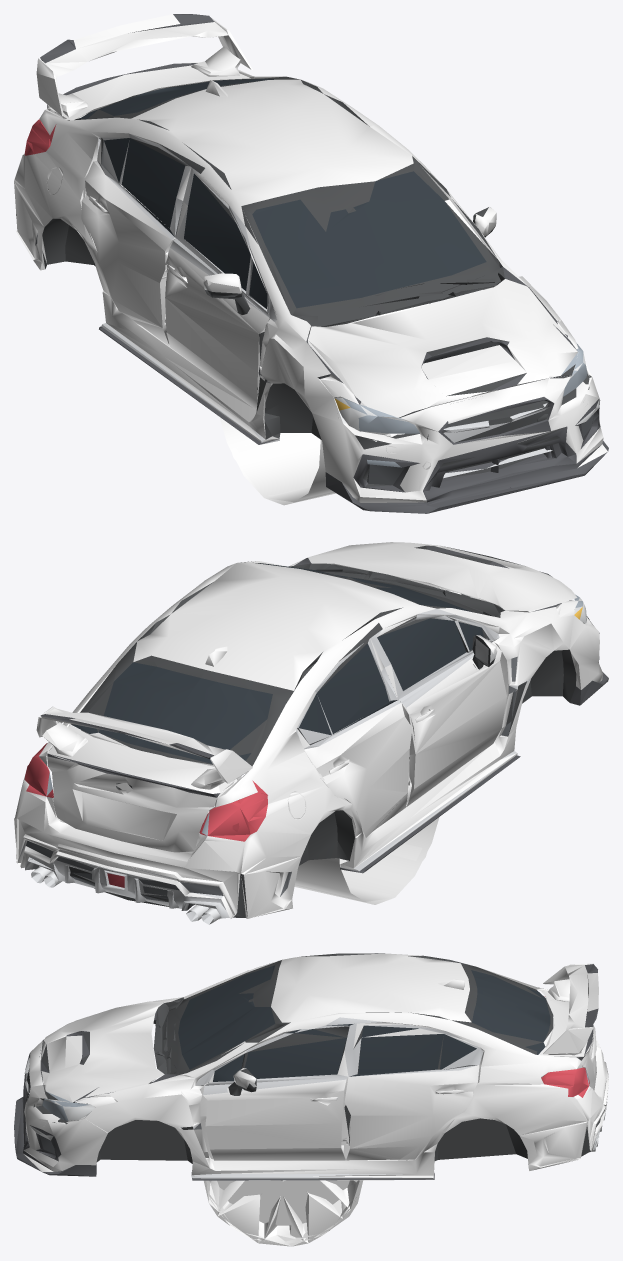
File: subie_wrx_sti_park.glb
The picture shows the model from 3 angles, top to bottom: view 1: azimuth 30°, elevation 25°; view 2: azimuth 150°, elevation 25°; view 3: azimuth 270°, elevation 25°; orthographic projection. The views are drawn at different scales.
Visible parts, largest first — view 1: lod0, rim2, rim0; view 2: lod0, rim2, rim0; view 3: lod0, rim0, rim1, rim2.
Part boxes in pixels (x1,y1,x2,y2): lod0: (14,14,608,513); rim2: (221,418,334,502); rim0: (236,303,454,503); lod0: (14,542,608,924); rim2: (295,818,437,901); rim0: (206,770,422,903); lod0: (14,953,608,1180); rim0: (204,1180,363,1246); rim1: (207,1180,350,1244); rim2: (208,1180,352,1244).
Size of what is drawn, in the model's own units: 1.99 by 2.09 by 4.68.
